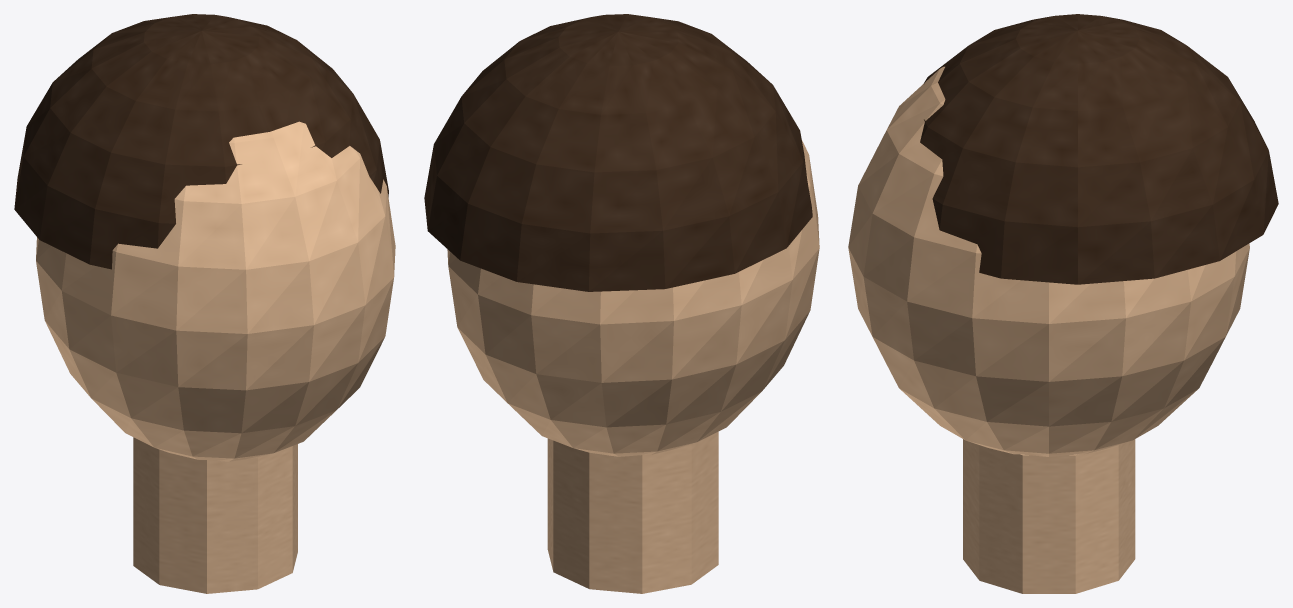
File: JugA_Cabeza.obj
3 renders of one model, left to right at view 1: azimuth 30°, elevation 25°; view 2: azimuth 150°, elevation 25°; view 3: azimuth 270°, elevation 25°, orthographic. The views are drawn at different scales.
Bounding box in the file's own units: 0.2 × 0.305 × 0.225.
Materials: 1 (1 with a texture image).
